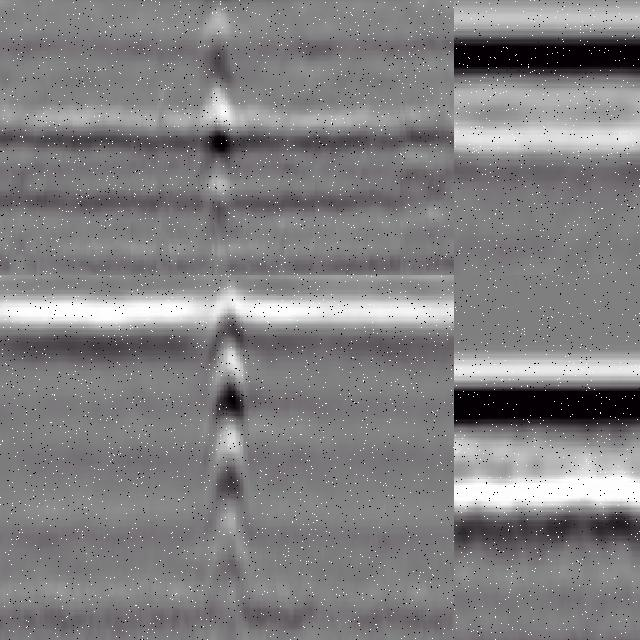crack: (197, 1, 241, 266), (214, 278, 243, 617)
loose: (455, 474, 593, 640)
